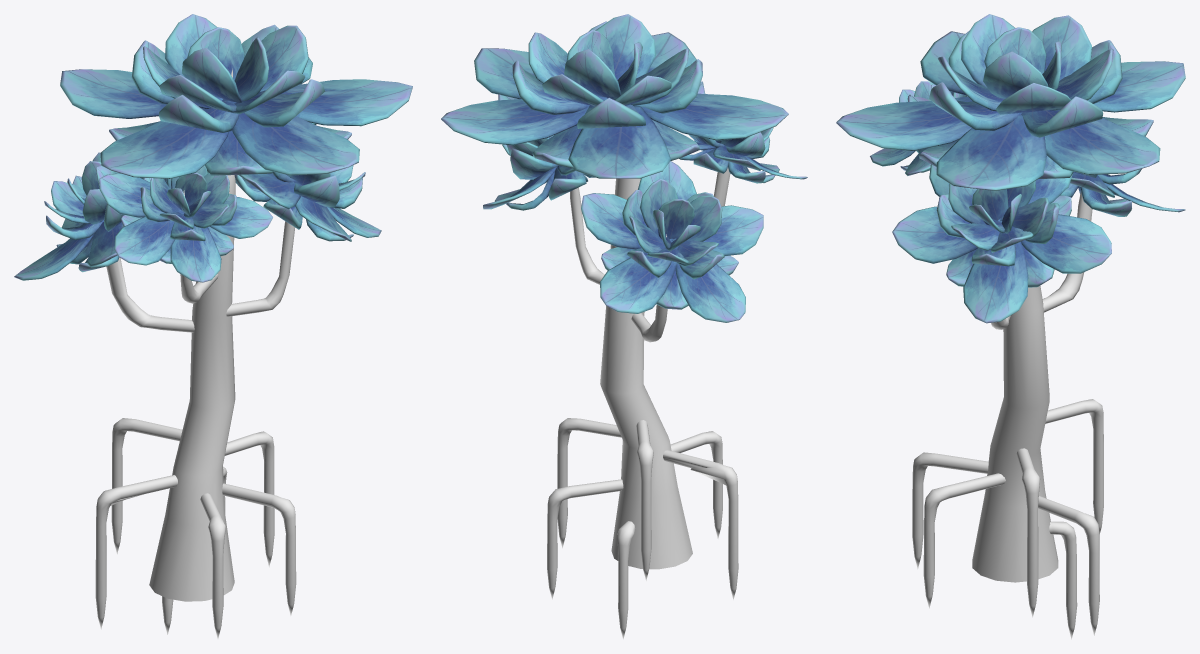
Rendered from MOD_Tree16.FBX.
3 views of the same model, side by side, from view 1: azimuth 30°, elevation 25°; view 2: azimuth 150°, elevation 25°; view 3: azimuth 270°, elevation 25° (orthographic). The views are drawn at different scales.
Visible parts, largest first — view 1: Plane041, Cylinder008; view 2: Plane041, Cylinder008; view 3: Plane041, Cylinder008.
Part boxes in pixels (x1=…): Plane041: x1=14, y1=14, x2=412, y2=282; Cylinder008: x1=95, y1=68, x2=296, y2=638; Plane041: x1=441, y1=14, x2=807, y2=322; Cylinder008: x1=547, y1=167, x2=738, y2=639; Plane041: x1=836, y1=14, x2=1185, y2=323; Cylinder008: x1=912, y1=191, x2=1103, y2=639.
Size of the model in its own units: 115 by 199 by 102.
